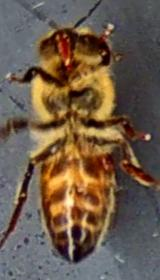varroa_mite: (91, 144, 124, 178)
